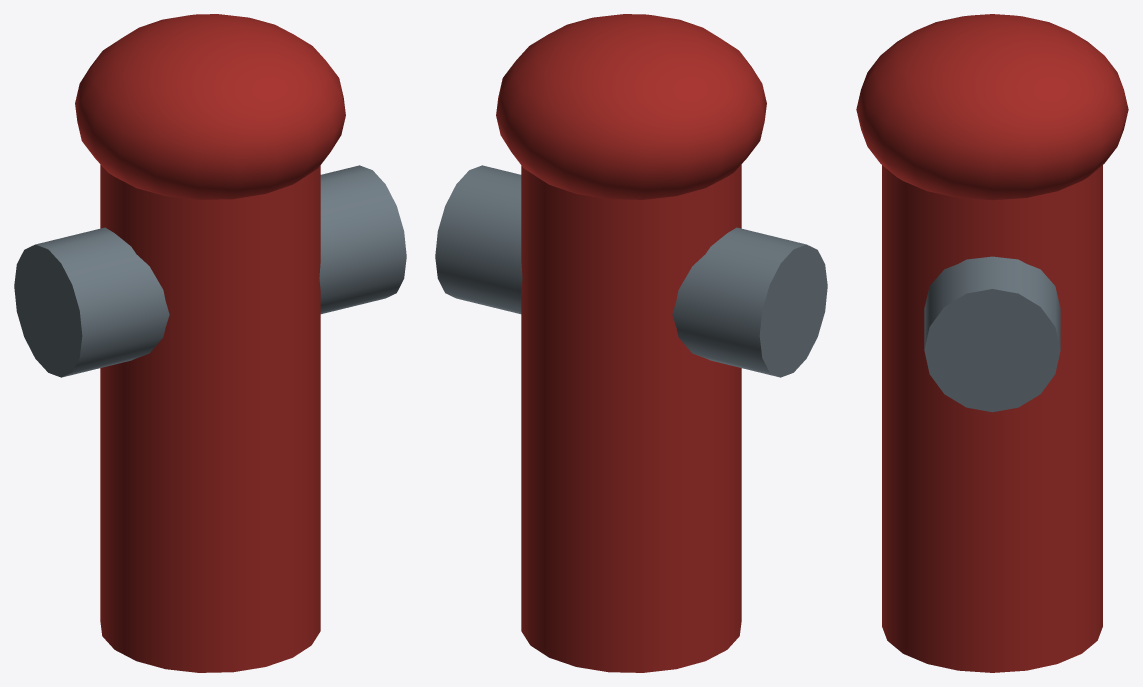
Rendered from Hydrant.fbx.
3 renders of one model, left to right at view 1: azimuth 30°, elevation 25°; view 2: azimuth 150°, elevation 25°; view 3: azimuth 270°, elevation 25°, orthographic.
Parts seen in each view (by area): view 1: Body.043; view 2: Body.043; view 3: Body.043.
Part boxes in pixels (x1,y1,x2,y2): Body.043: (14,14,406,672); Body.043: (435,14,827,672); Body.043: (856,14,1128,672).
Bounding box in the file's own units: 0.44 × 0.77 × 0.32.
